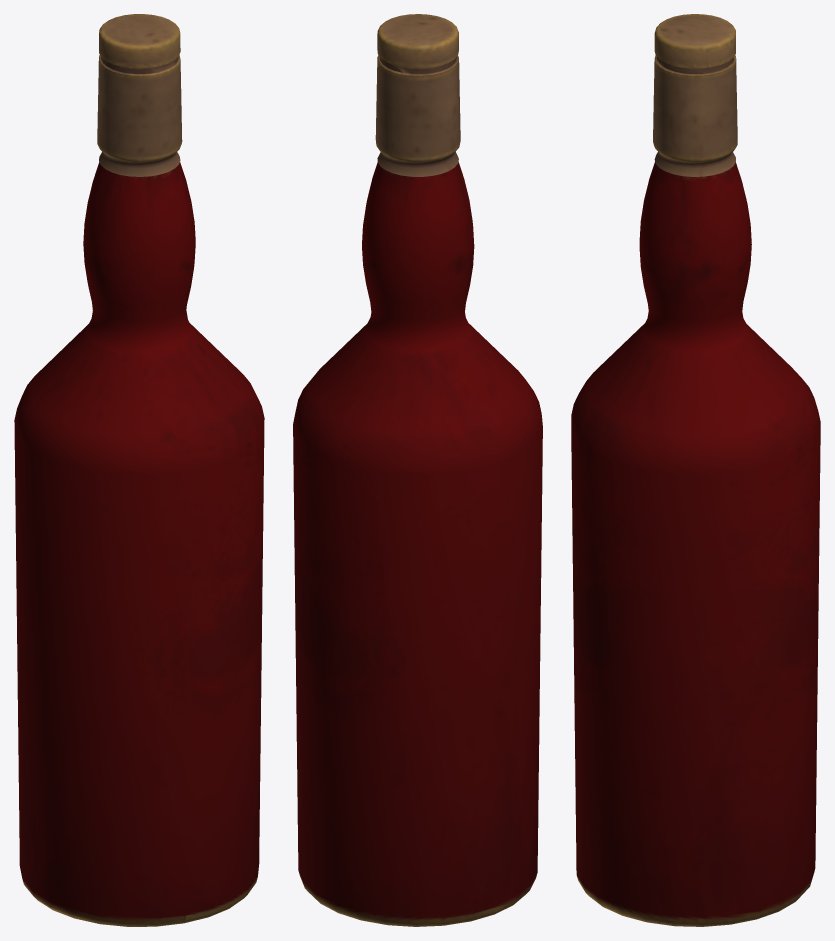
File: SM_Bottle7.fbx
3 views of the same model, side by side, from view 1: azimuth 30°, elevation 25°; view 2: azimuth 150°, elevation 25°; view 3: azimuth 270°, elevation 25° (orthographic).
Parts seen in each view (by area): view 1: SM_Bottle7_LOD0; view 2: SM_Bottle7_LOD0; view 3: SM_Bottle7_LOD0.
Boxes of the visible parts, x1,y1,x2,y2 form: SM_Bottle7_LOD0: (14,14,264,926); SM_Bottle7_LOD0: (293,14,542,926); SM_Bottle7_LOD0: (571,14,820,926).
Size of the model in its own units: 12.3 by 12.28 by 46.22.
1 material, 1 textured.
